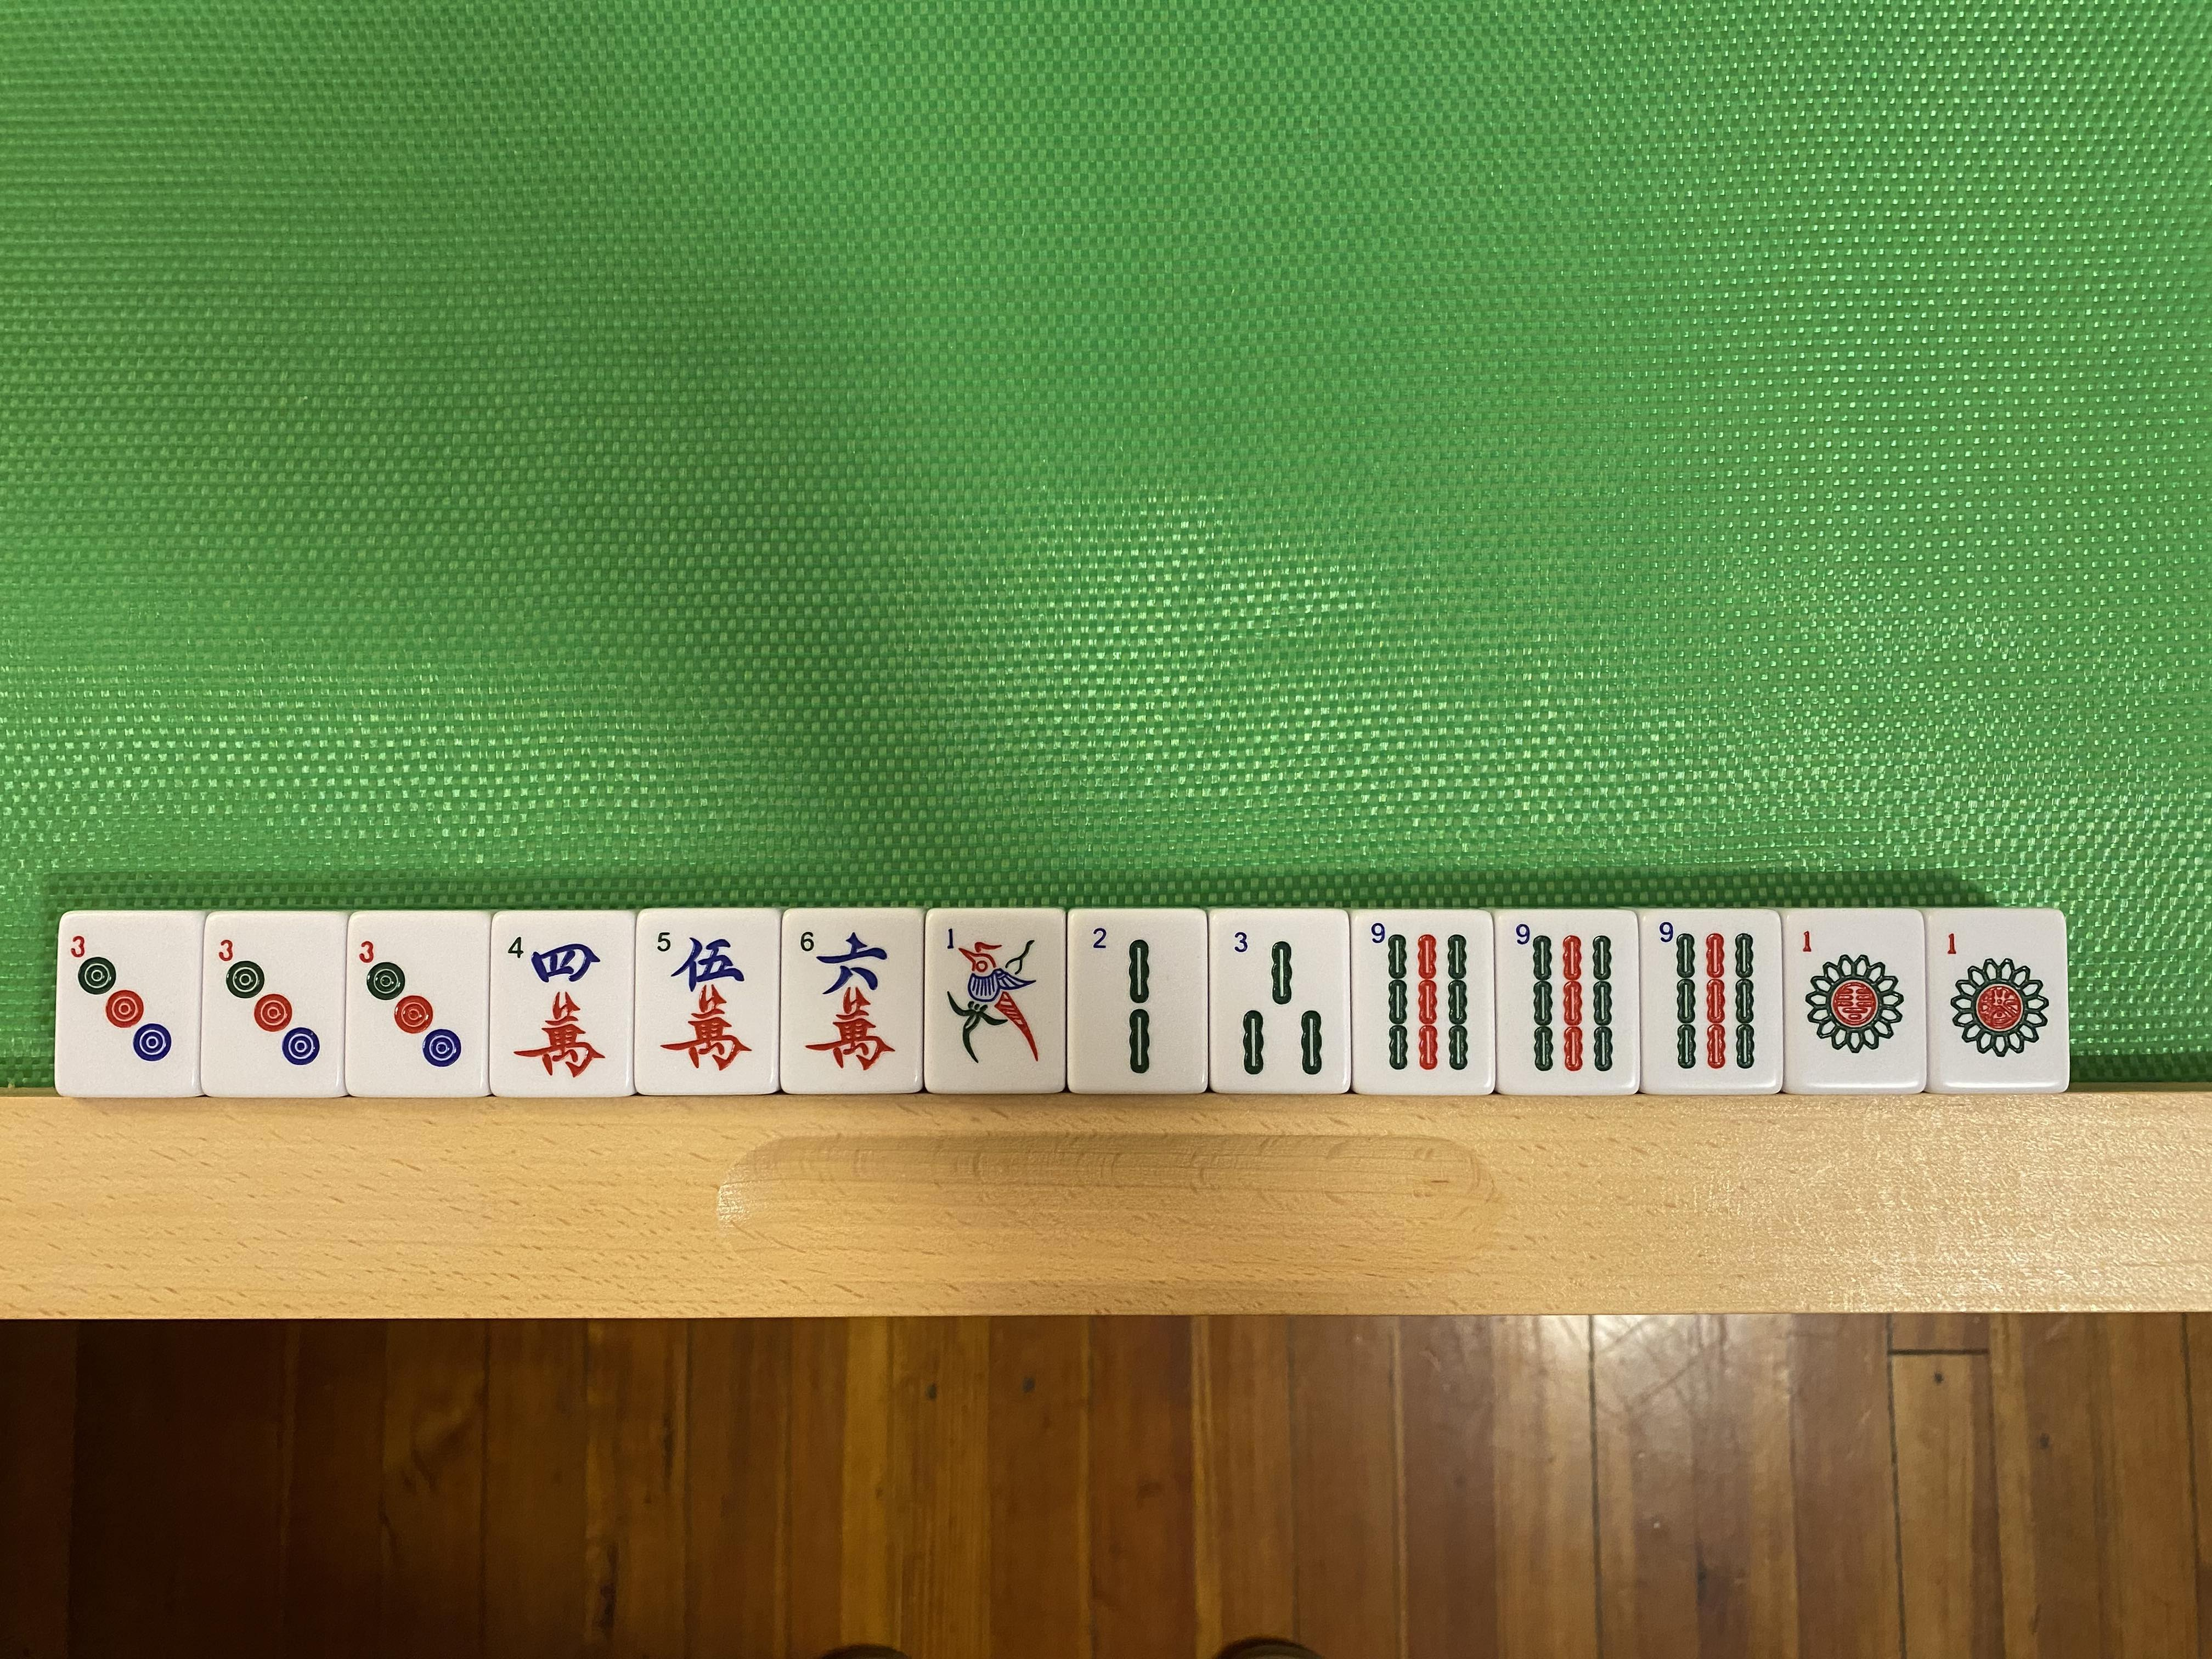bamboo-nine: (1644, 917, 1777, 1087), (1507, 917, 1629, 1089), (1360, 920, 1484, 1084)
bamboo-one: (934, 917, 1054, 1086)
bamboo-three: (1216, 917, 1341, 1086)
bamboo-two: (1076, 918, 1200, 1082)
character-five: (643, 917, 770, 1084)
character-four: (496, 924, 624, 1094)
character-six: (789, 917, 914, 1087)
circle-one: (1939, 918, 2060, 1079), (1797, 920, 1914, 1079)
circle-three: (61, 924, 193, 1087), (209, 925, 336, 1086), (354, 927, 475, 1086)
